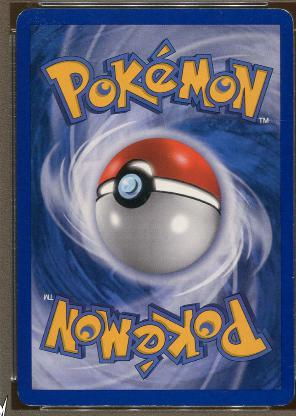Card: (15, 6, 293, 408)
Corner Wear: (275, 8, 293, 30), (271, 390, 293, 406), (15, 8, 27, 28), (16, 389, 21, 401)
Edge Wear: (38, 404, 182, 406), (292, 302, 293, 352), (258, 8, 276, 10), (290, 270, 293, 280), (26, 404, 40, 406)
Scratch: (212, 390, 229, 394), (283, 364, 292, 368), (218, 10, 221, 14)
